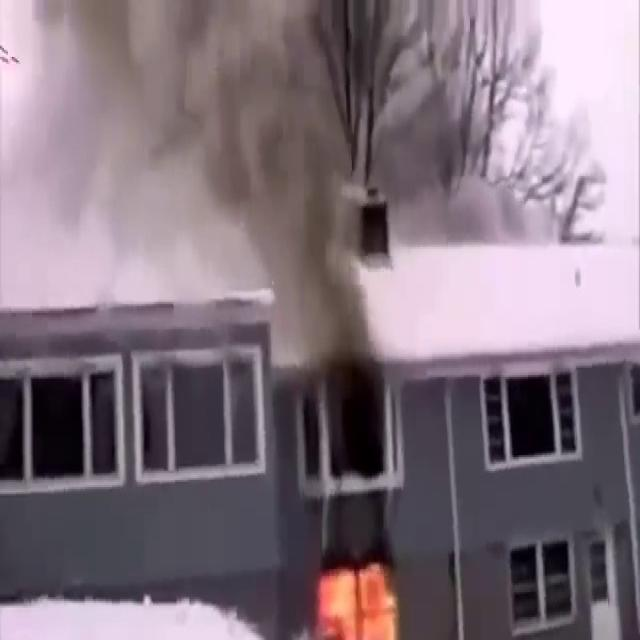Fire: (308, 550, 412, 638)
Smoke: (0, 0, 376, 309), (373, 0, 477, 219)
